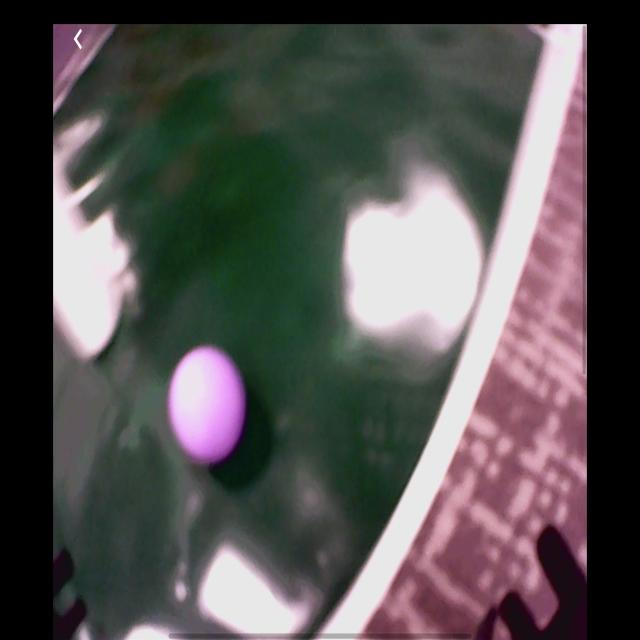ball: (168, 348, 246, 461)
